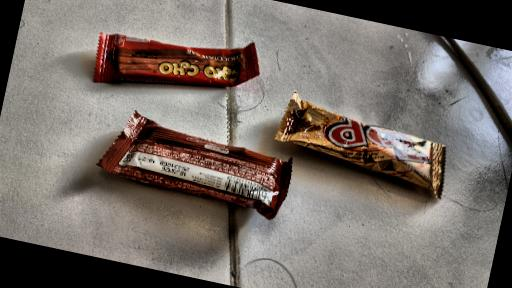chocho: (61, 0, 262, 111)
top: (261, 71, 466, 200), (59, 111, 318, 213)
